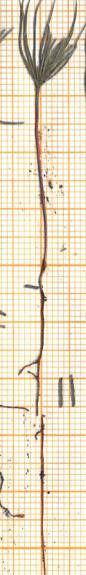flower: (11, 0, 86, 92)
root: (16, 285, 52, 575)
stem: (28, 95, 53, 286)
